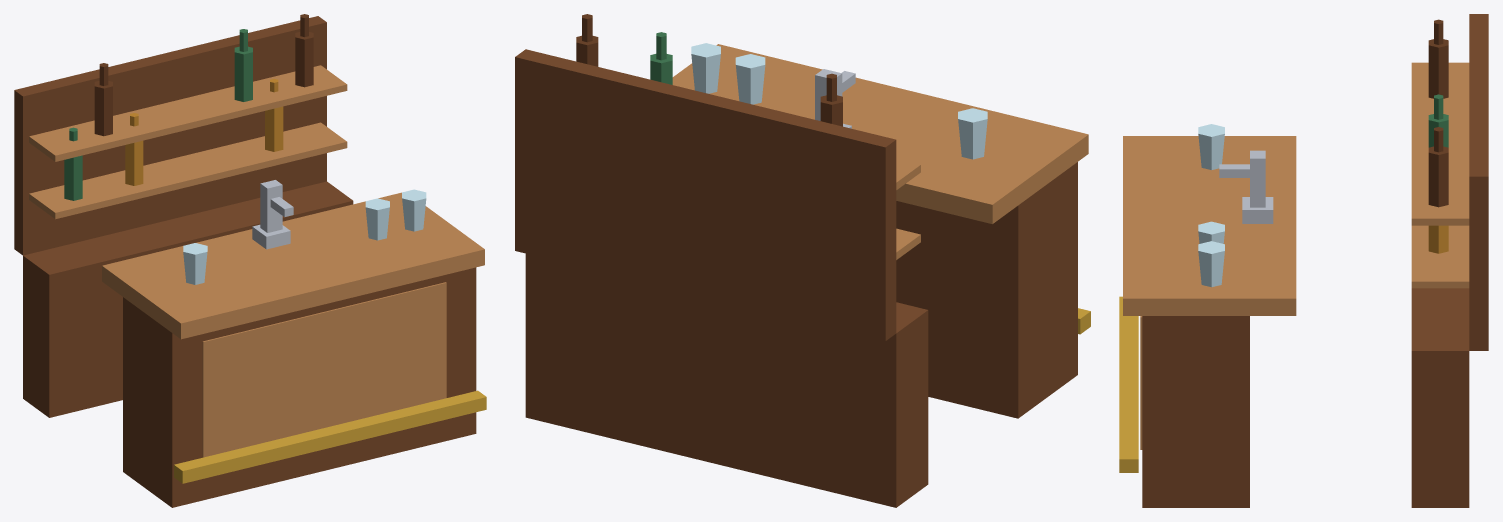
The model's file is bar.glb.
The picture shows the model from 3 angles, left to right: view 1: azimuth 30°, elevation 25°; view 2: azimuth 150°, elevation 25°; view 3: azimuth 270°, elevation 25°; orthographic projection. The views are drawn at different scales.
Visible parts, largest first — view 1: bar; view 2: bar; view 3: bar.
Boxes of the visible parts, x1,y1,x2,y2 form: bar: [14, 14, 486, 507]; bar: [515, 14, 1090, 507]; bar: [1119, 14, 1488, 507].
Size of the model in its own units: 1 by 1.03 by 0.96.
Materials: 1 (1 with a texture image).
